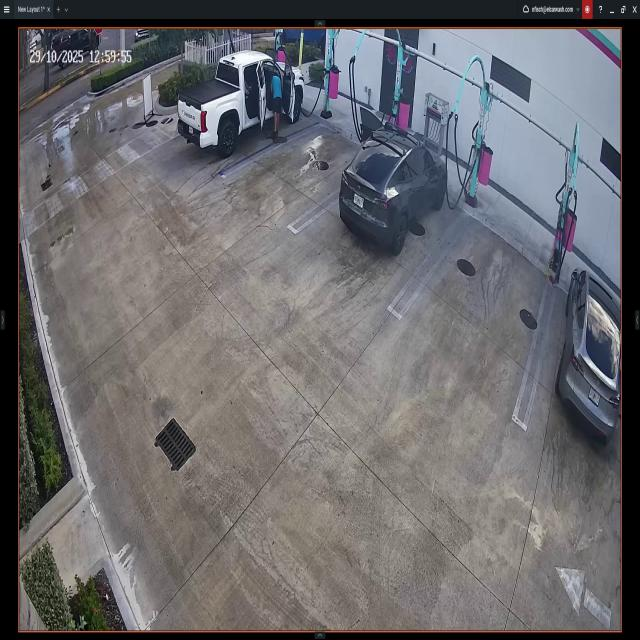Car: (341, 108, 447, 254), (178, 49, 304, 153), (558, 268, 621, 441)
